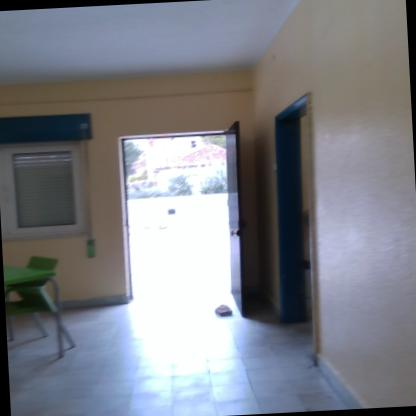open: (102, 114, 260, 314), (260, 99, 334, 355)
